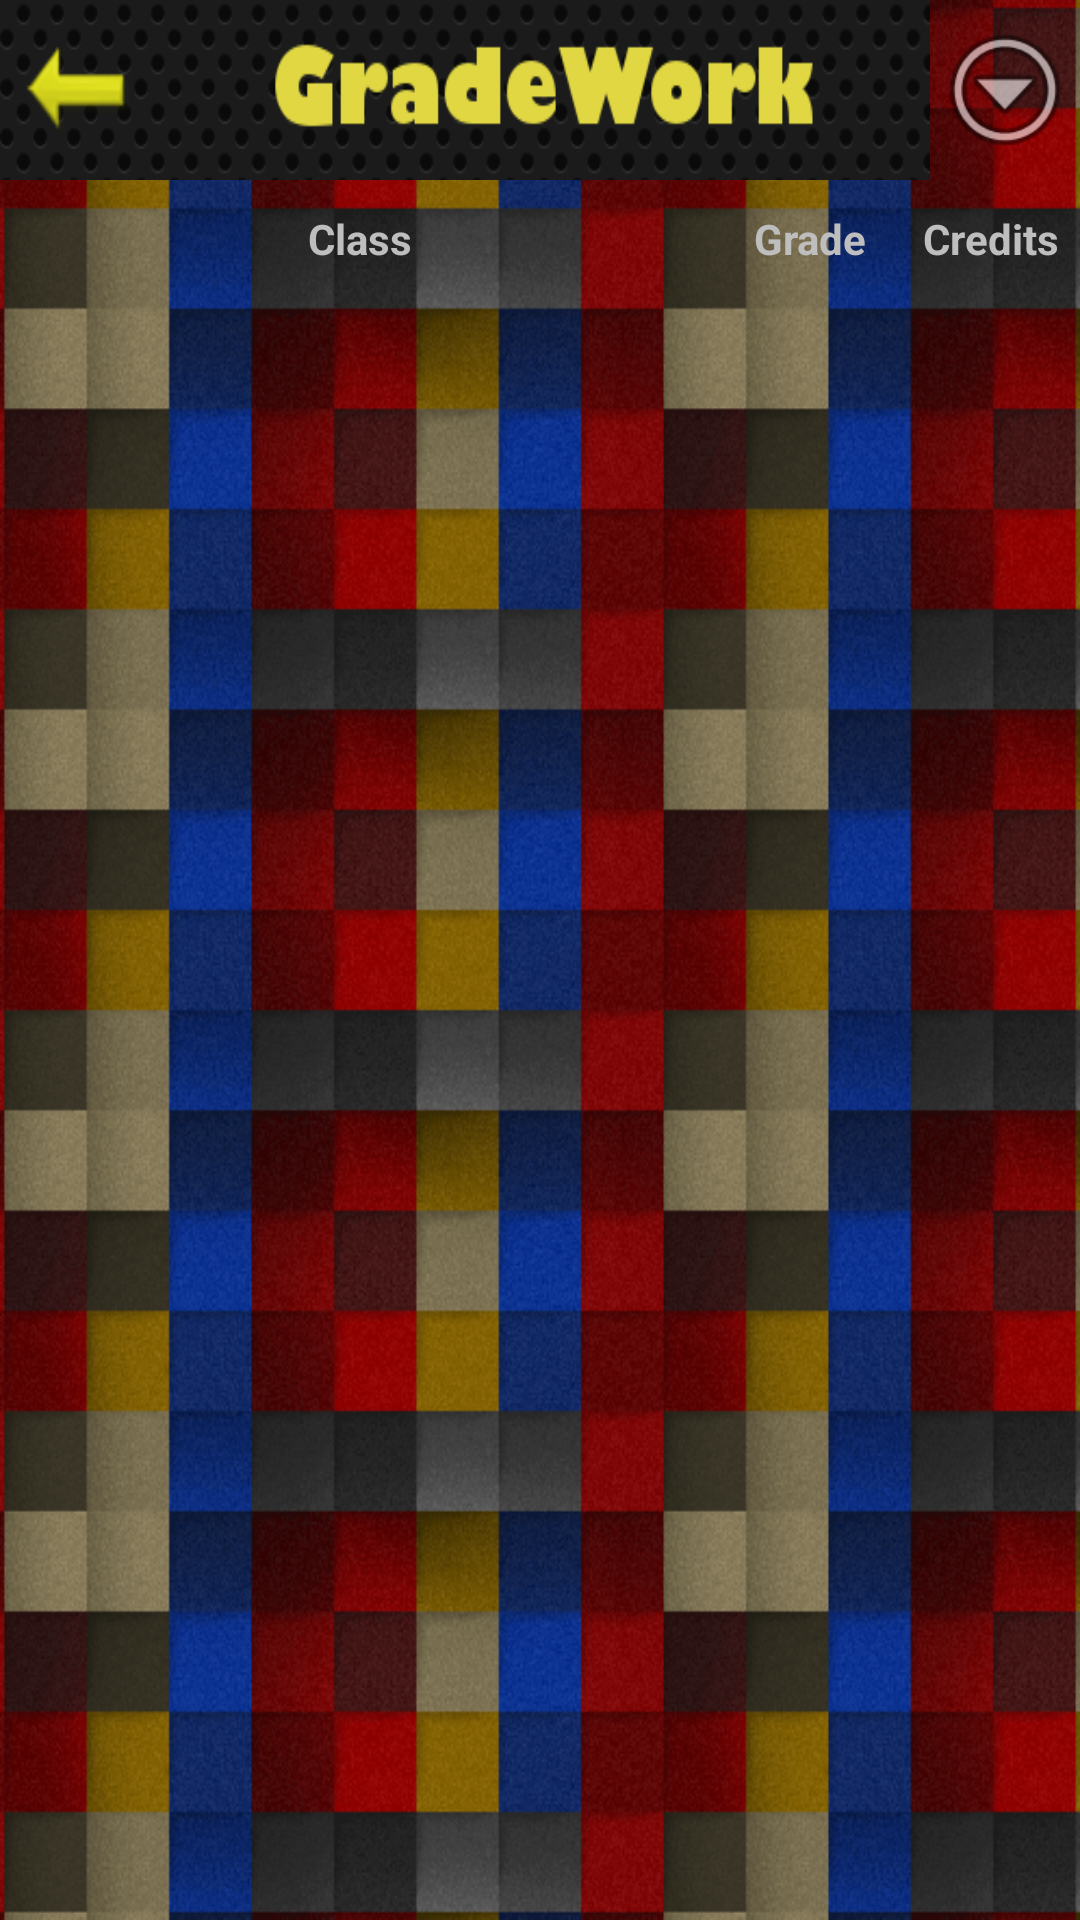

Where to tap for icons on this 1080×1920 app screen, as point (x, y):
more: point (1005, 90)
